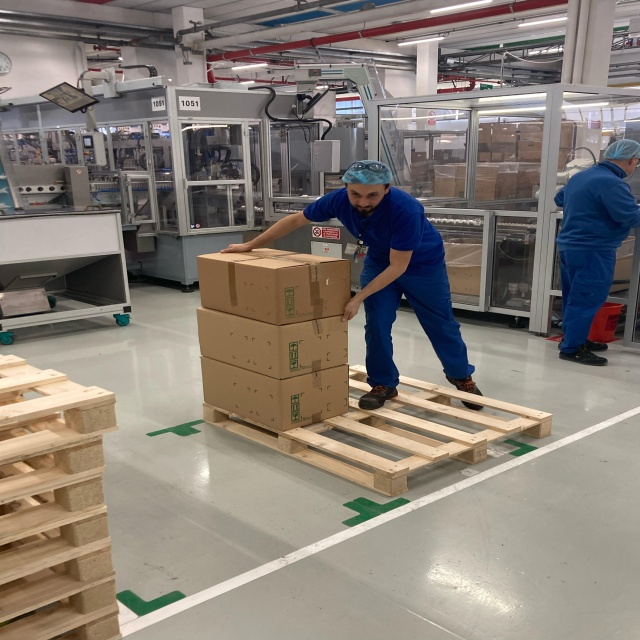Hairnet: (287, 136, 492, 412), (545, 119, 634, 371), (352, 158, 383, 180), (616, 136, 636, 153)
